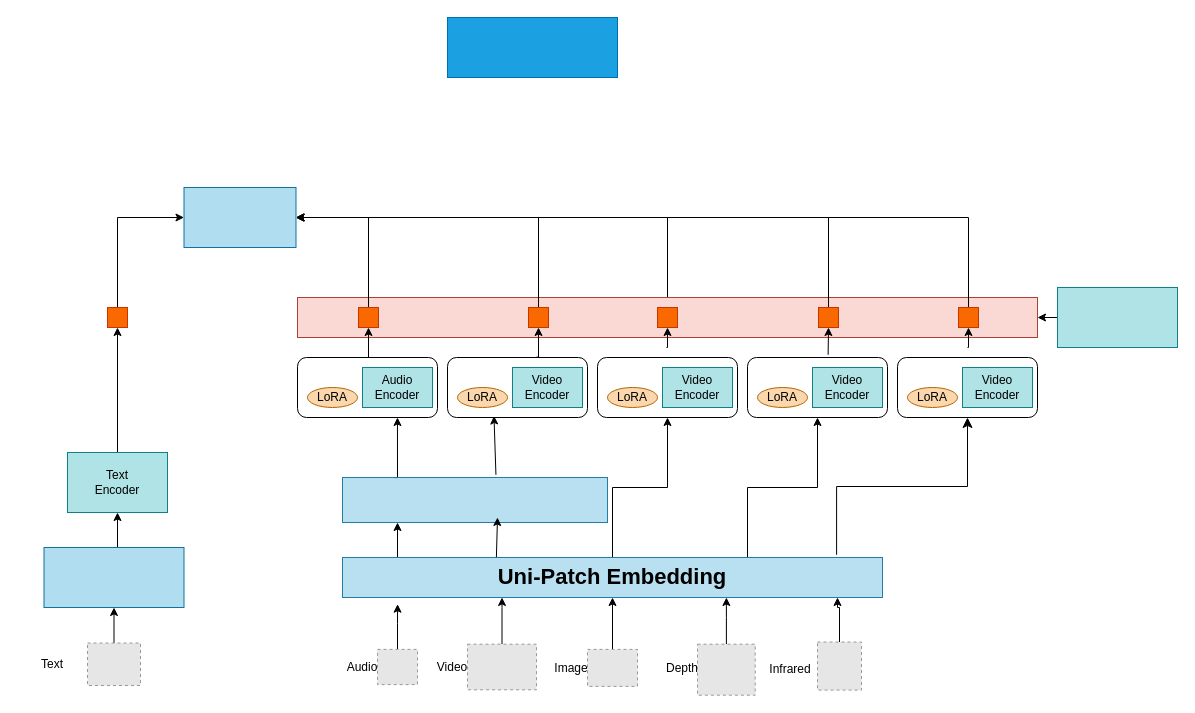
Image size: 1195x713. Some labels were removed from this diagram. Grey dashed boxes stand in for pictures. The box of each missing label's shape, as (x1, y1, x2, y2) in pixels:
noisy embedding: (1056, 286, 1178, 348)
single modality encoder: (446, 16, 618, 78)
Tokenizer: (43, 546, 184, 608)
Topk CL: (183, 186, 296, 248)
video-audio Embedding: (342, 476, 608, 522)
